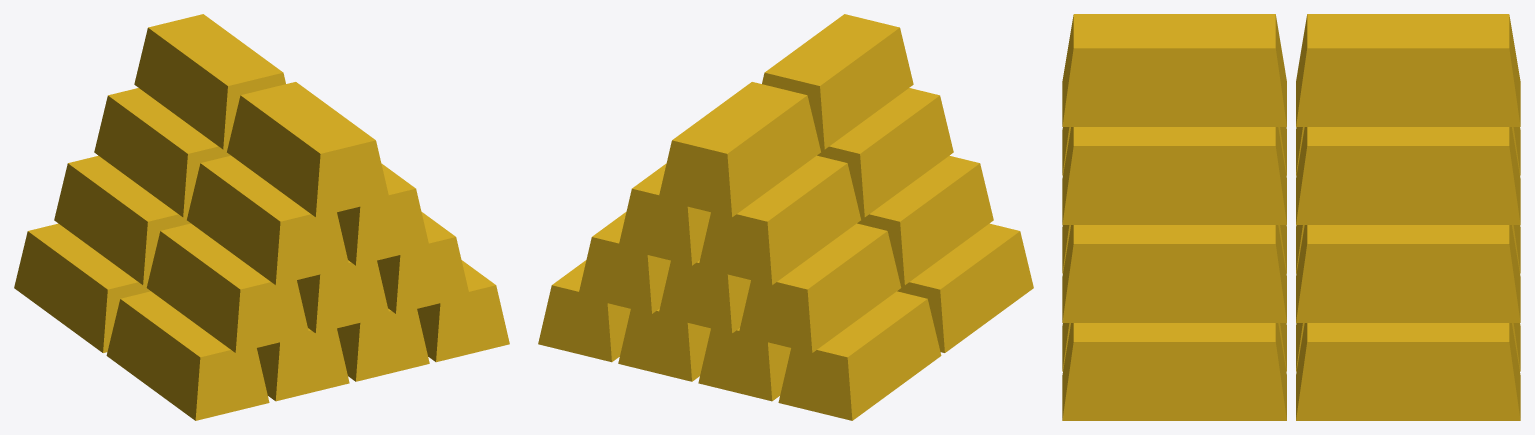
File: Mining_GoldBars.fbx
3 renders of one model, left to right at view 1: azimuth 30°, elevation 25°; view 2: azimuth 150°, elevation 25°; view 3: azimuth 270°, elevation 25°, orthographic. The views are drawn at different scales.
Visible parts, largest first — view 1: Mining_GoldBars; view 2: Mining_GoldBars; view 3: Mining_GoldBars.
Boxes of the visible parts, x1,y1,x2,y2 form: Mining_GoldBars: (14,14,509,420); Mining_GoldBars: (538,14,1033,420); Mining_GoldBars: (1062,14,1520,420).
Bounding box in the file's own units: 0.51 × 0.36 × 0.51.
